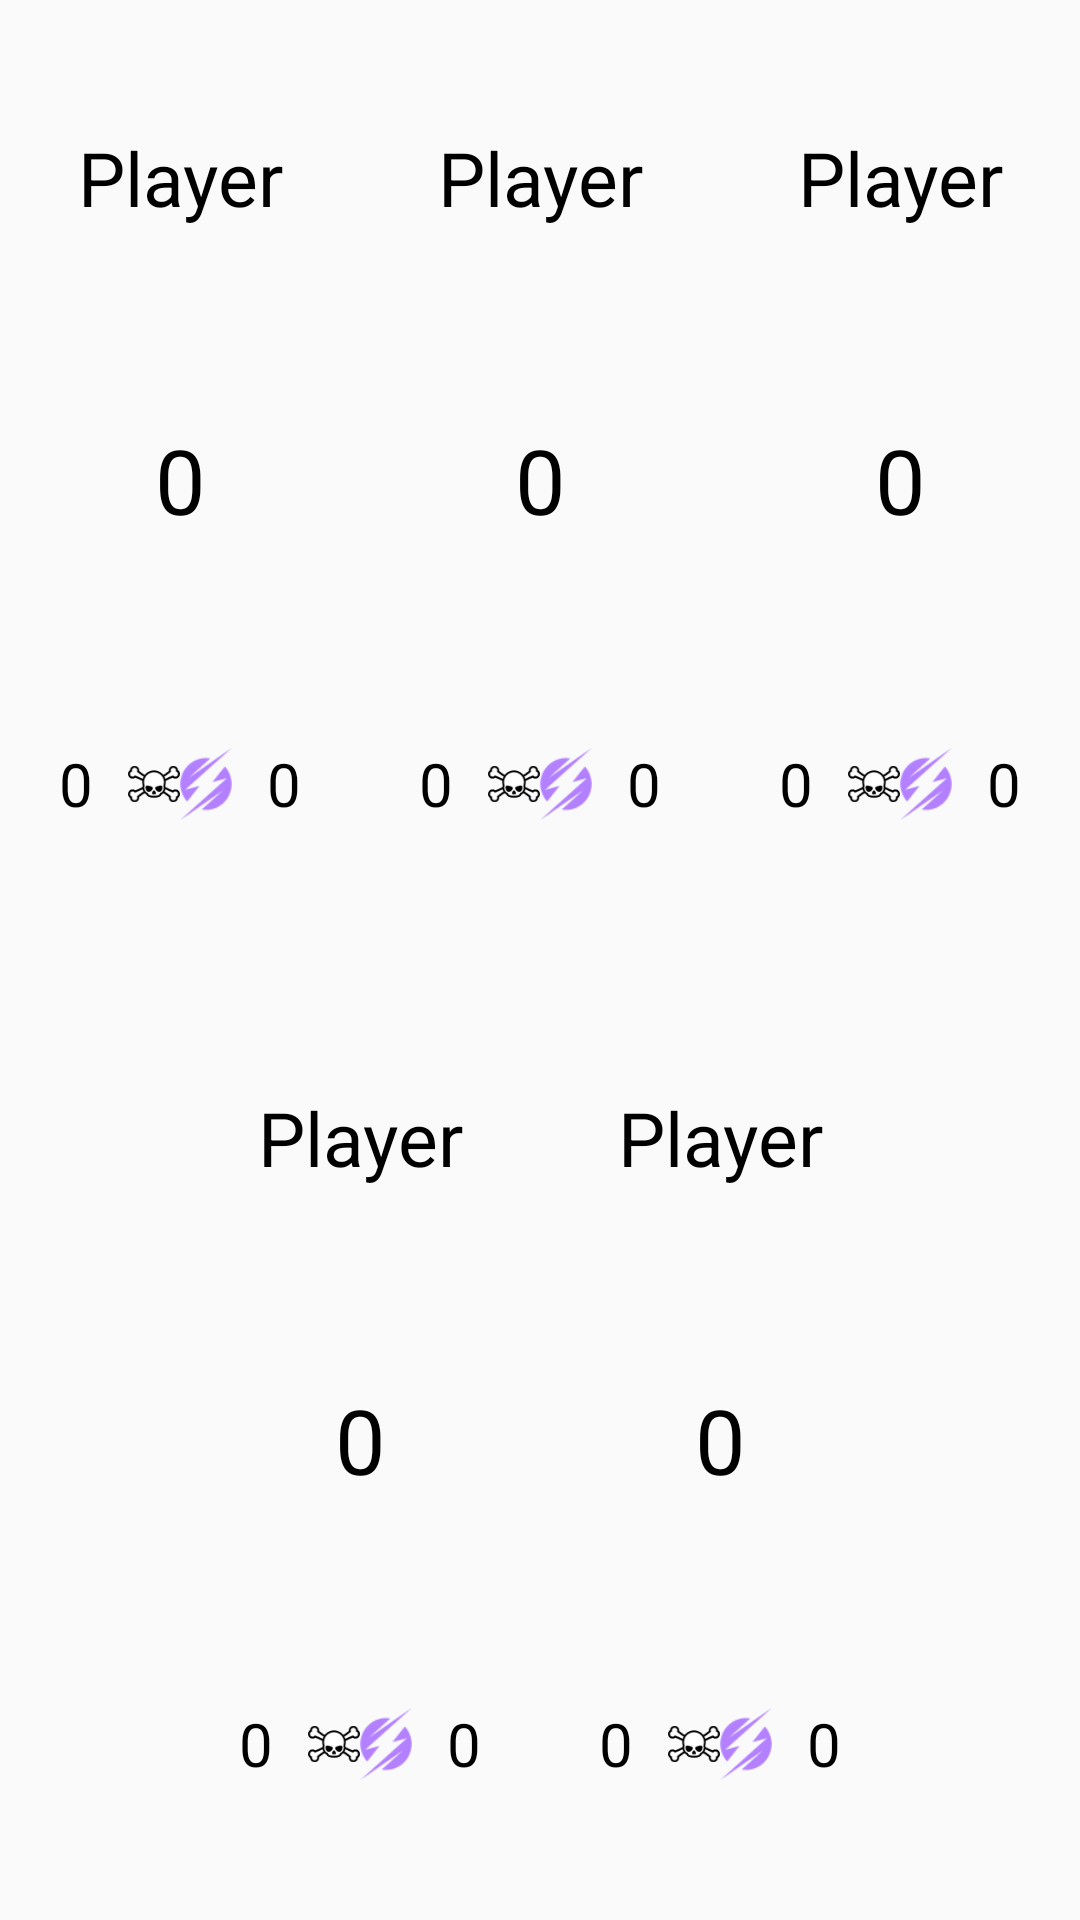

Icon bounding boxes for this 1080×1920 phone screenshot, format bbox(x1, y1, x2, y2):
counter energy: bbox(180, 749, 232, 819), bbox(540, 749, 592, 819), bbox(900, 749, 952, 819), bbox(360, 1709, 412, 1779), bbox(720, 1709, 772, 1779)
counter poison: bbox(128, 766, 180, 802), bbox(488, 766, 540, 802), bbox(848, 766, 900, 802), bbox(308, 1726, 360, 1762), bbox(668, 1726, 720, 1762)
